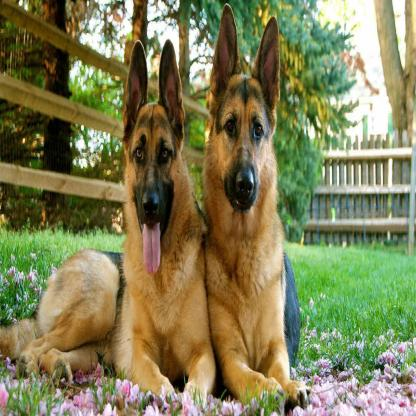german shepherd: (0, 37, 217, 404), (203, 13, 309, 408)
